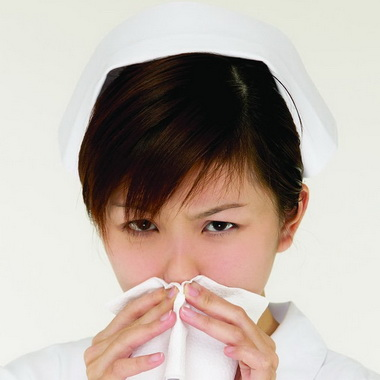face: (101, 134, 272, 356)
